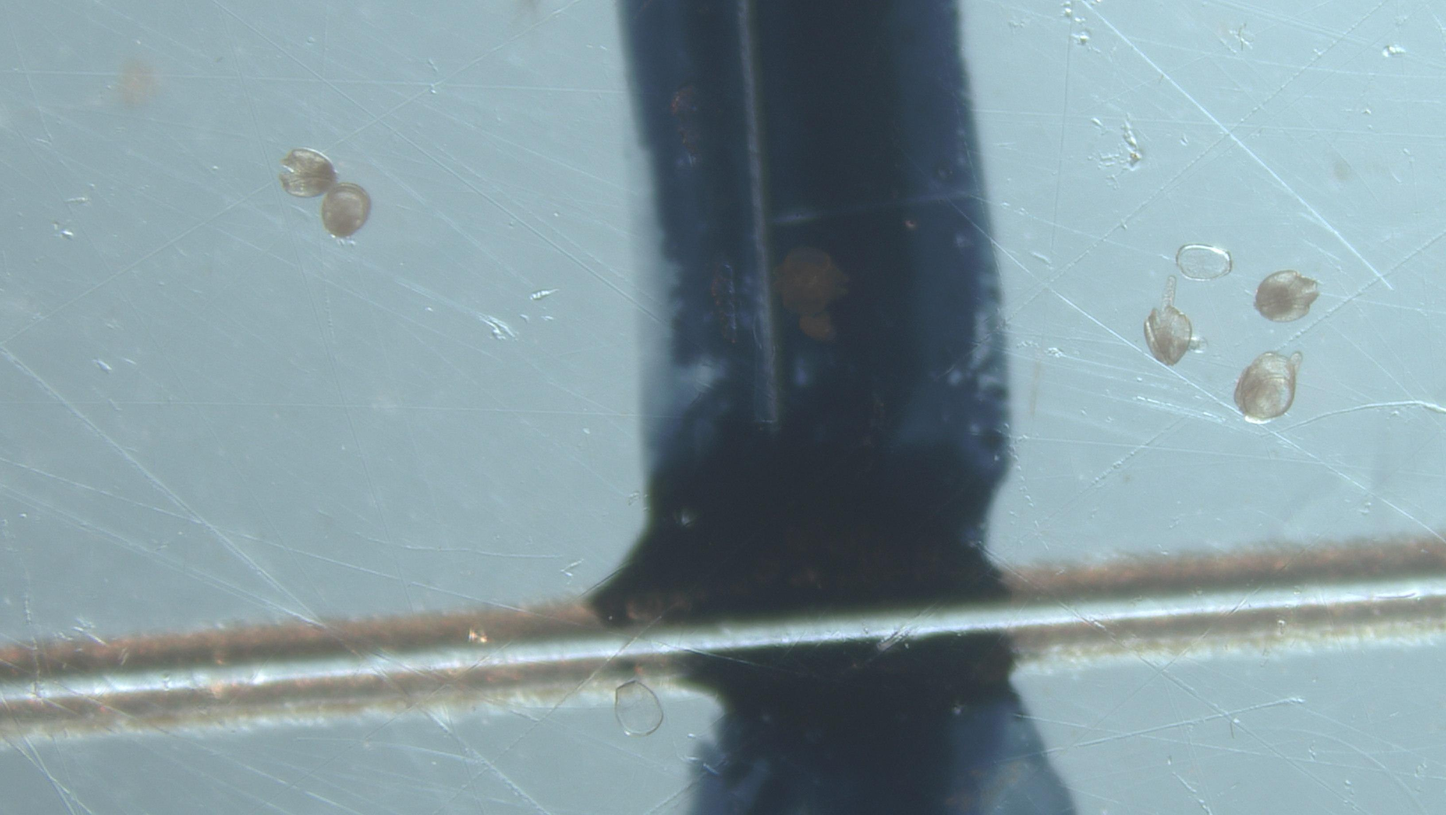dead: (615, 680, 664, 736), (1176, 244, 1232, 281)
live: (1234, 352, 1302, 423), (1144, 276, 1195, 366), (1254, 270, 1320, 322), (280, 148, 338, 198), (322, 183, 371, 238)
